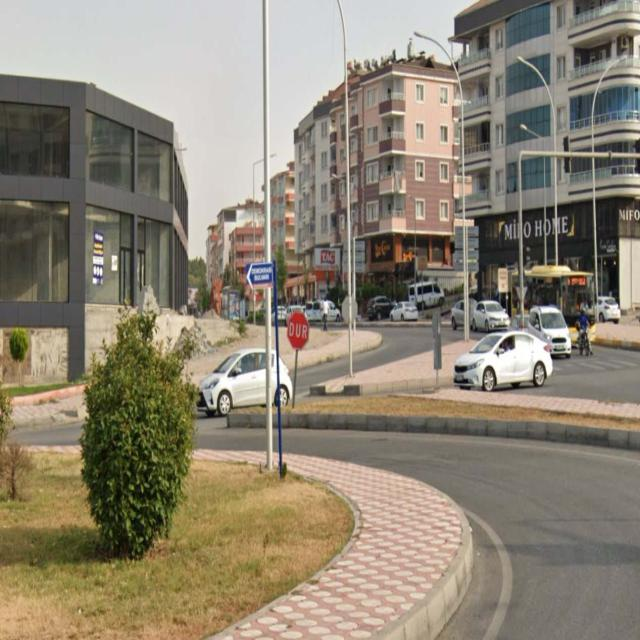dur: (286, 311, 308, 348)
